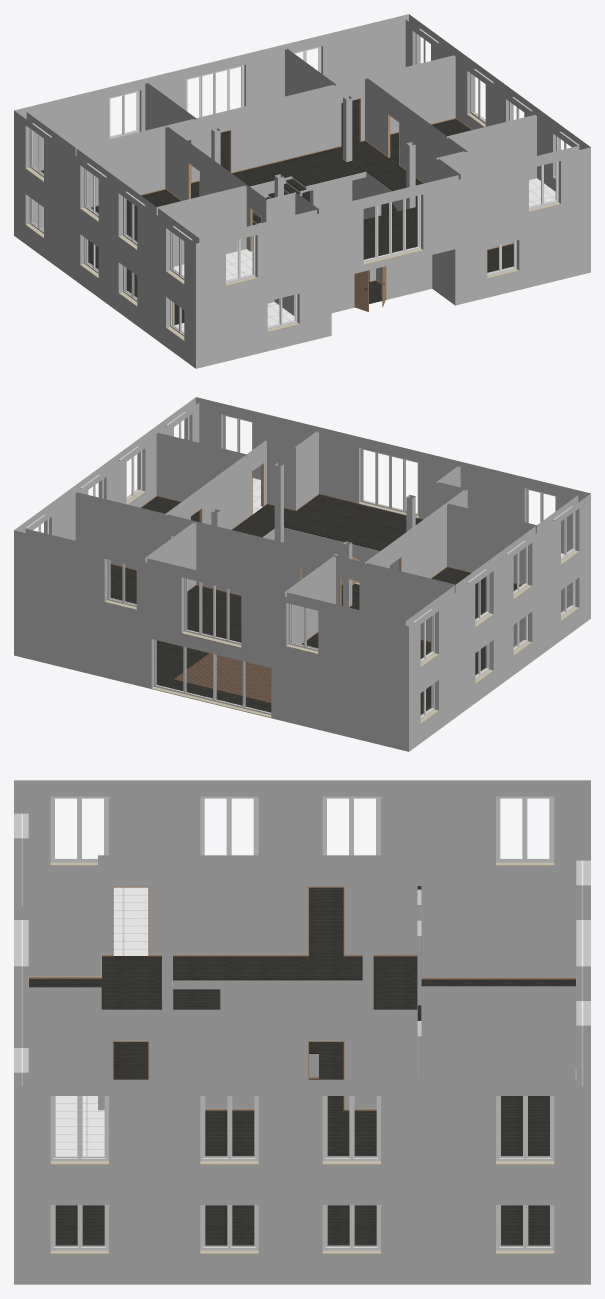
Rendered from Akademik_pietra ex.fbx.
3 views of the same model, one above another, from view 1: azimuth 30°, elevation 25°; view 2: azimuth 150°, elevation 25°; view 3: azimuth 270°, elevation 25° (orthographic). The views are drawn at different scales.
Parts seen in each view (by area): view 1: Model; view 2: Model; view 3: Model.
Boxes of the visible parts, bbox=[...] form: Model: bbox=[14, 14, 590, 368]; Model: bbox=[14, 397, 590, 751]; Model: bbox=[14, 780, 590, 1284].
Bounding box in the file's own units: 19.8 × 6.02 × 15.8.
